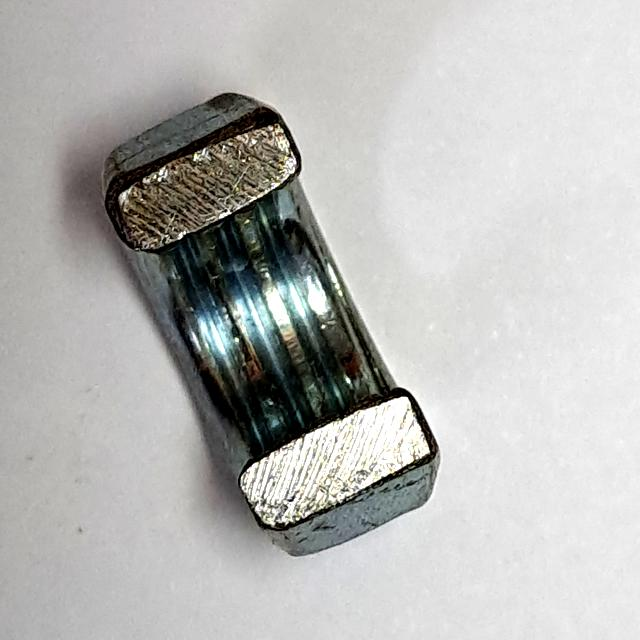Side-Fracture: (90, 72, 459, 581)
